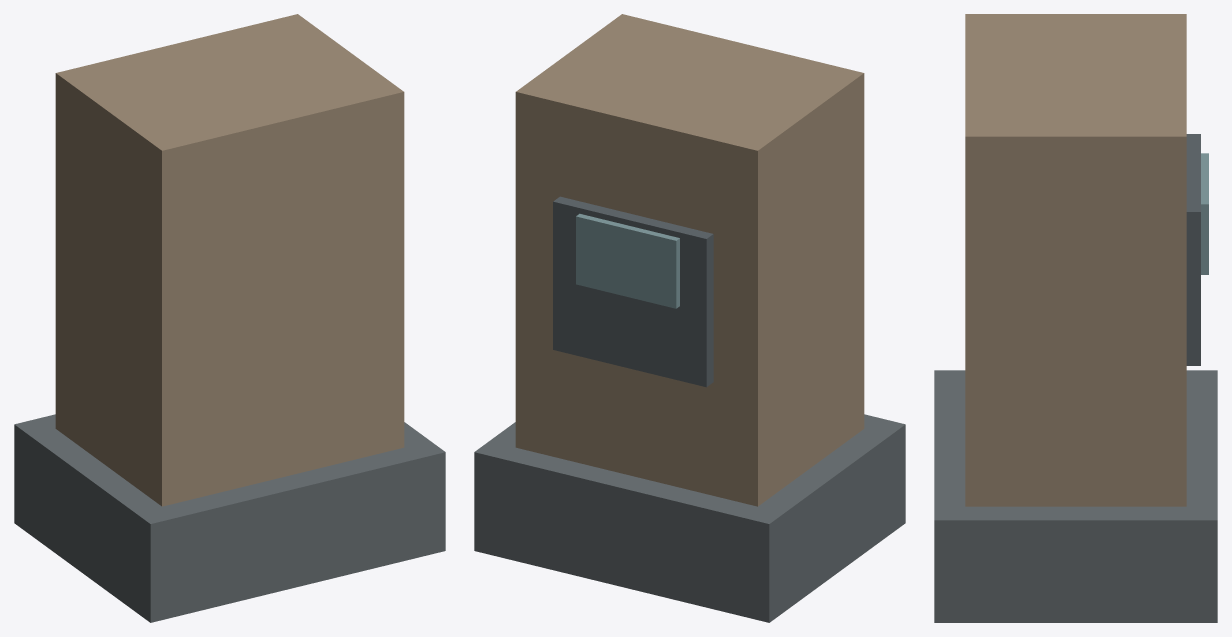
File: iz3_health_cooler_02.glb
The picture shows the model from 3 angles, left to right: view 1: azimuth 30°, elevation 25°; view 2: azimuth 150°, elevation 25°; view 3: azimuth 270°, elevation 25°; orthographic projection. The views are drawn at different scales.
Parts seen in each view (by area): view 1: cabinet, base; view 2: cabinet, base, panel, display; view 3: cabinet, base, panel, display.
Boxes of the visible parts, left/top/right/bottom form: cabinet: left=55, top=14, right=404, bottom=506; base: left=14, top=414, right=445, bottom=622; cabinet: left=515, top=14, right=864, bottom=506; base: left=474, top=414, right=905, bottom=622; panel: left=553, top=196, right=713, bottom=387; display: left=576, top=213, right=679, bottom=308; cabinet: left=965, top=14, right=1186, bottom=506; base: left=934, top=370, right=1217, bottom=622; panel: left=1186, top=134, right=1200, bottom=365; display: left=1201, top=153, right=1208, bottom=274.
Size of the model in its own units: 1 by 1.47 by 0.8.
